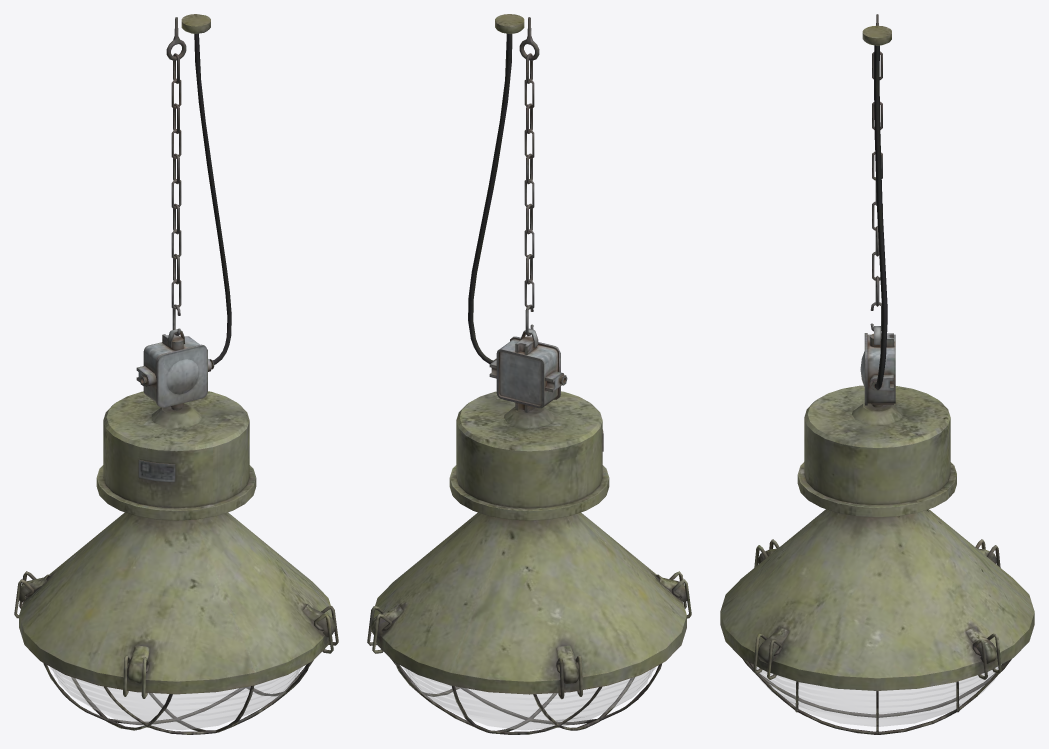
Rendered from hanging_industrial_lamp.glb.
The picture shows the model from 3 angles, left to right: view 1: azimuth 30°, elevation 25°; view 2: azimuth 150°, elevation 25°; view 3: azimuth 270°, elevation 25°; orthographic projection.
Visible parts, largest first — view 1: hanging_industrial_lamp; view 2: hanging_industrial_lamp; view 3: hanging_industrial_lamp.
Part boxes in pixels (x1,y1,x2,y2): hanging_industrial_lamp: [14, 14, 338, 734]; hanging_industrial_lamp: [367, 14, 691, 734]; hanging_industrial_lamp: [720, 14, 1034, 734].
Size of the model in its own units: 0.5496 by 1.36 by 0.5496.
Materials: 2 (1 with a texture image).
